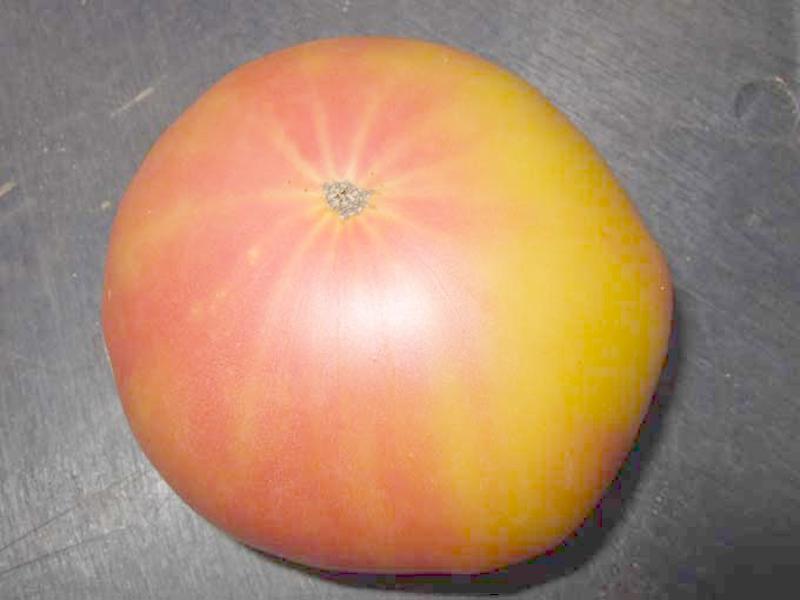Tomato: (102, 36, 664, 576)
